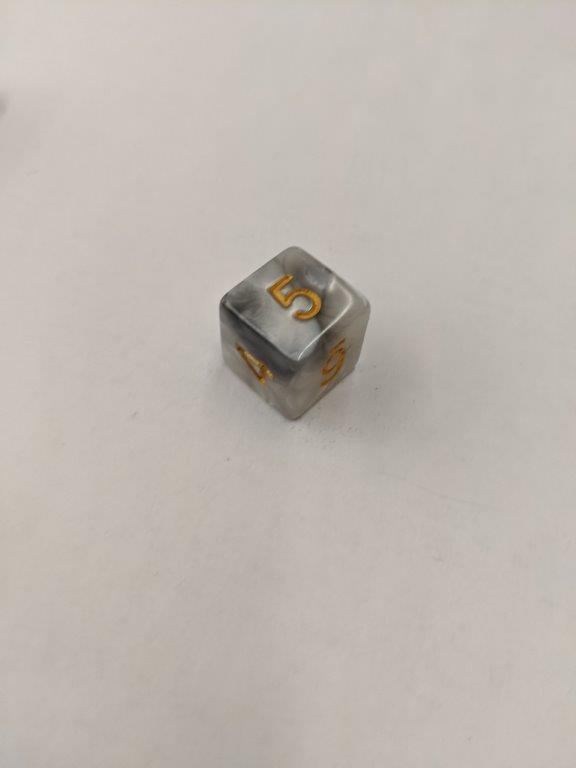d6-5: (217, 241, 370, 426)
